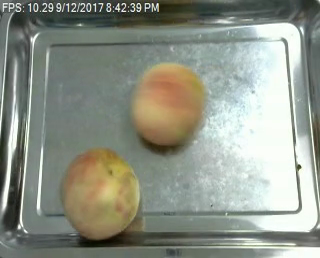Peach: (61, 146, 140, 241), (130, 62, 205, 145)
